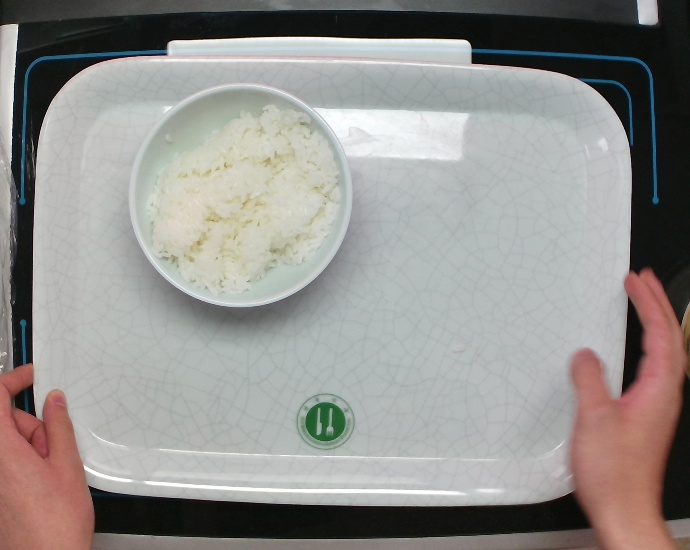JYsf-Fan_Wan: (125, 81, 354, 309)
